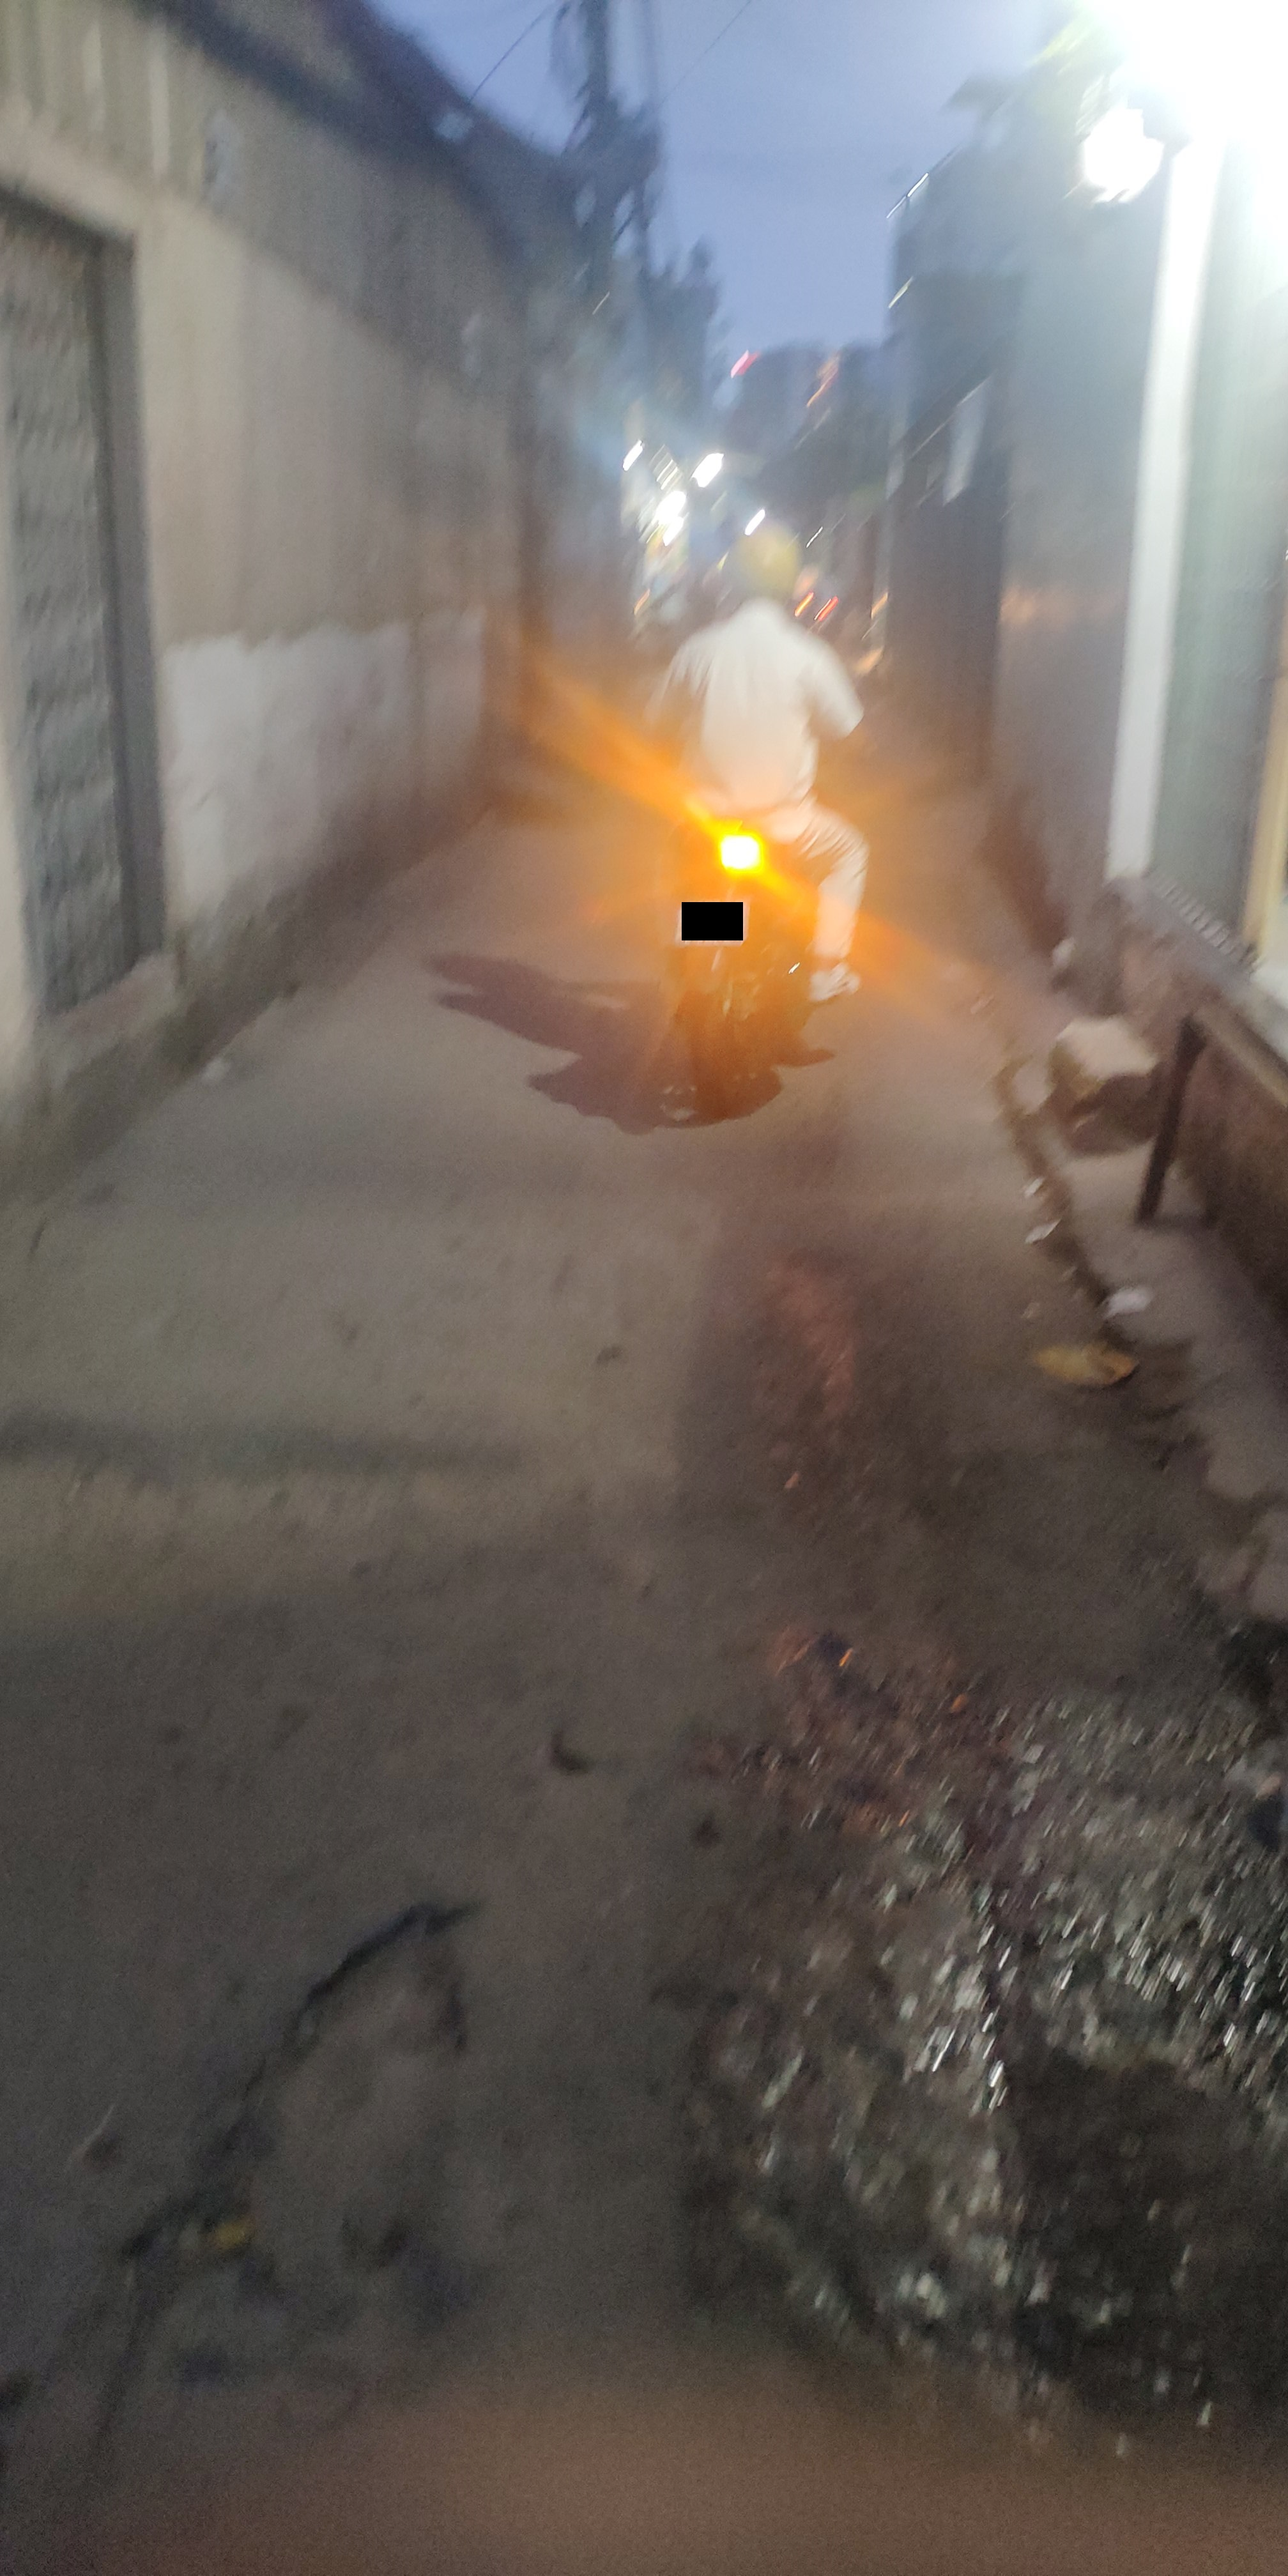hole: (210, 1899, 490, 2372)
